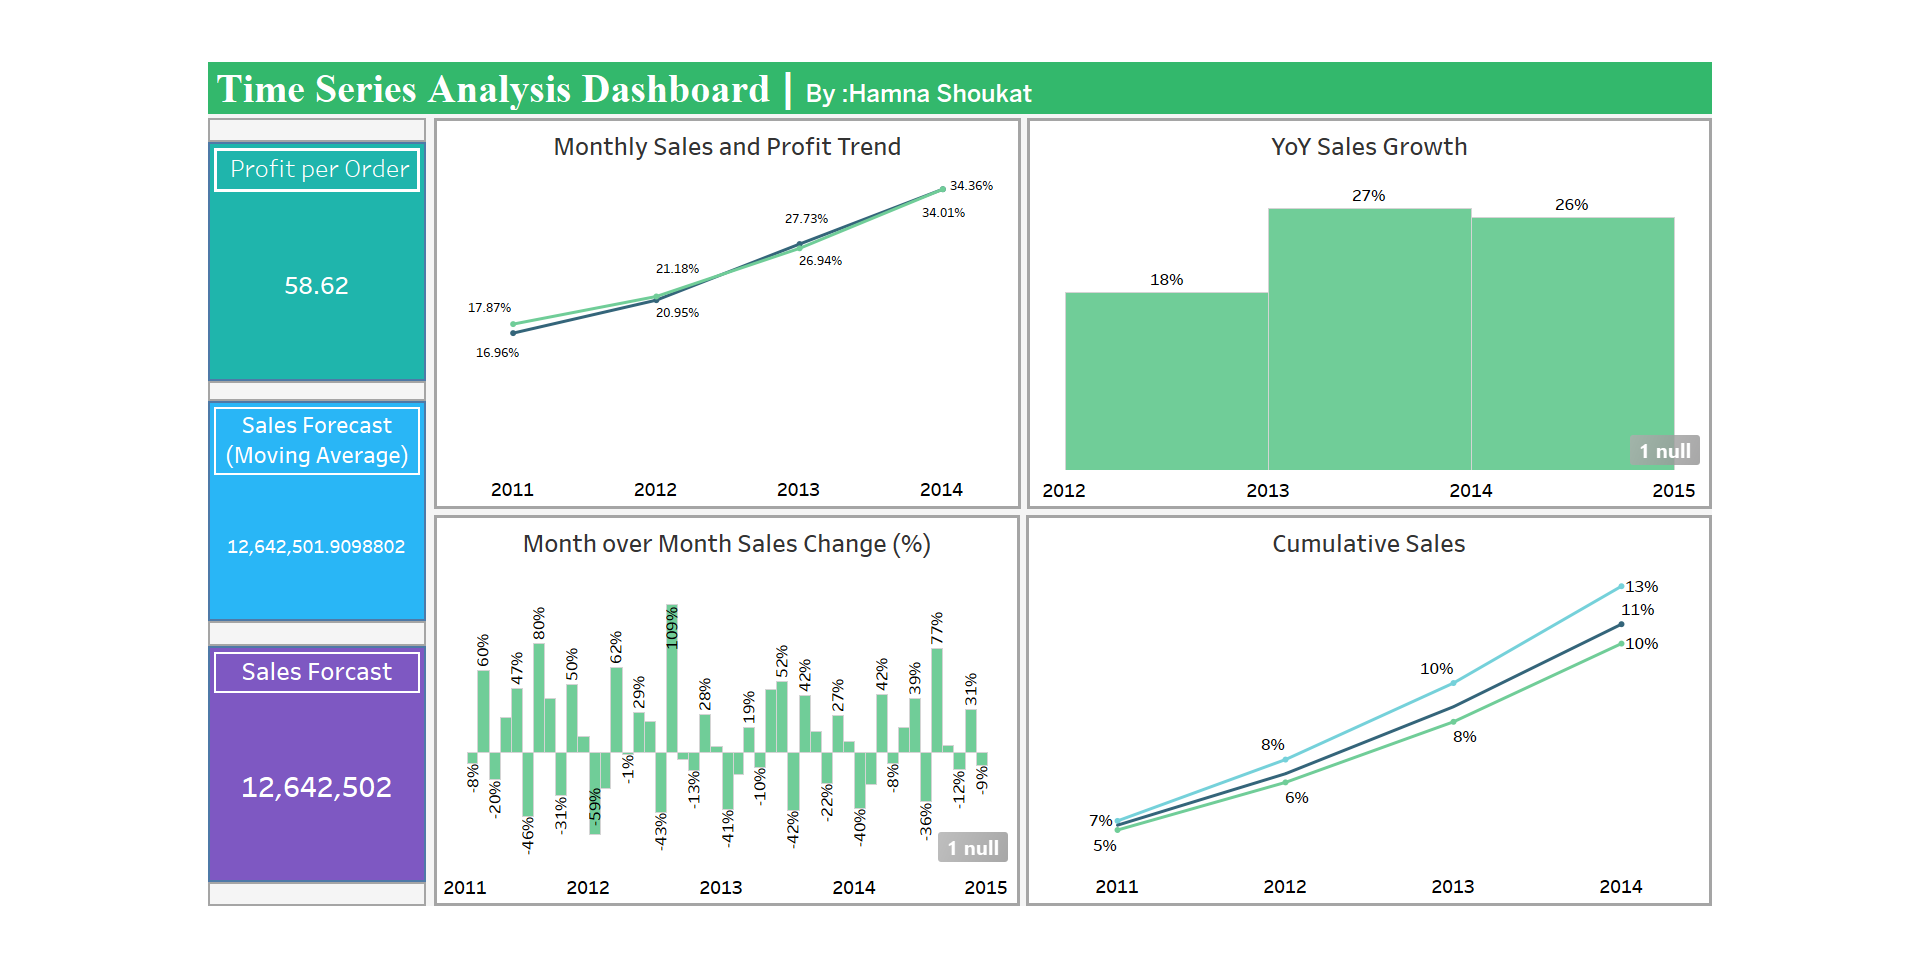

This screenshot's page, from the dashboard's own definition file:
{"tool":"tableau","page":{"name":"Time Series Analysis Dashboard","canvas":[1000,1000],"units":"permille","ordinal":2},"visuals":[{"type":"text","box":[5.3,9.3,989.5,60.5]},{"type":"blank","box":[5.3,69.8,989.5,4.7]},{"type":"blank","box":[5.3,74.4,143.4,27.9]},{"type":"blank","box":[148.7,74.4,5.3,916.3]},{"type":"blank","box":[540.1,74.4,4,454.7]},{"type":"worksheet","title":"Monthly Sales and Profit Trend","mark":"Automatic","rows":["Sales","Profit"],"cols":["Order Date"],"box":[155.9,77.9,382.2,447.7]},{"type":"worksheet","title":"YoY Sales Growth","mark":"Bar","rows":["Calculation_115123297989210118"],"cols":["Order Date"],"box":[546,77.9,446.7,447.7]},{"type":"worksheet","title":" Profit per Order","mark":"Text","box":[6.6,104.7,140.8,273.2]},{"type":"blank","box":[5.3,380.2,143.4,23.3]},{"type":"worksheet","title":"Sales Forecast (Moving Average)","mark":"Text","box":[6.6,405.8,140.8,251.2]},{"type":"blank","box":[153.9,529.1,840.8,7]},{"type":"blank","box":[539.5,536,4,454.7]},{"type":"worksheet","title":"Month over Month Sales Change (%)","mark":"Bar","rows":["Calculation_115123298027479050"],"cols":["Order Date"],"box":[155.9,539.5,381.6,447.7]},{"type":"worksheet","title":"Cumulative Sales","mark":"Line","rows":["Sales"],"cols":["Order Date"],"box":[545.4,539.5,447.4,447.7]},{"type":"blank","box":[5.3,659.3,143.4,29.1]},{"type":"worksheet","title":"Sales Forcast","mark":"Text","box":[6.6,690.7,140.8,269.8]},{"type":"blank","box":[5.3,962.8,143.4,27.9]}]}

Visuals, with their boxes on the dashboard's canvas, which has no fixed pixel size, in thousandths of its width and height (x1, y1, x2, y2). These are canvas units, not pixel positions in the 1920x960 screenshot, which may show the page scaled, cropped or inside an application window:
text: <bbox>5, 9, 995, 70</bbox>
blank: <bbox>5, 70, 995, 74</bbox>
blank: <bbox>5, 74, 149, 102</bbox>
blank: <bbox>149, 74, 154, 991</bbox>
blank: <bbox>540, 74, 544, 529</bbox>
"Monthly Sales and Profit Trend" worksheet: <bbox>156, 78, 538, 526</bbox>
"YoY Sales Growth" worksheet (Bar marks): <bbox>546, 78, 993, 526</bbox>
" Profit per Order" worksheet (Text marks): <bbox>7, 105, 147, 378</bbox>
blank: <bbox>5, 380, 149, 404</bbox>
"Sales Forecast (Moving Average)" worksheet (Text marks): <bbox>7, 406, 147, 657</bbox>
blank: <bbox>154, 529, 995, 536</bbox>
blank: <bbox>540, 536, 544, 991</bbox>
"Month over Month Sales Change (%)" worksheet (Bar marks): <bbox>156, 540, 538, 987</bbox>
"Cumulative Sales" worksheet (Line marks): <bbox>545, 540, 993, 987</bbox>
blank: <bbox>5, 659, 149, 688</bbox>
"Sales Forcast" worksheet (Text marks): <bbox>7, 691, 147, 960</bbox>
blank: <bbox>5, 963, 149, 991</bbox>
